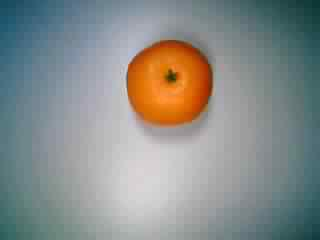orange: (121, 36, 216, 138)
